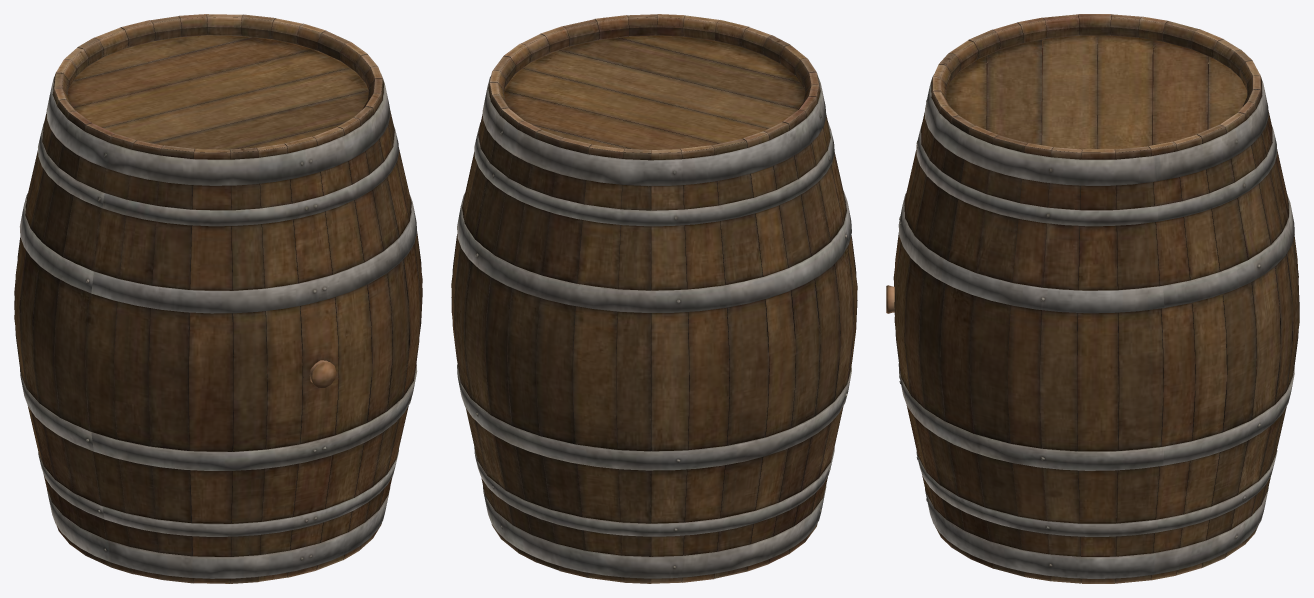
File: ph_wine_barrel_01.glb
3 renders of one model, left to right at view 1: azimuth 30°, elevation 25°; view 2: azimuth 150°, elevation 25°; view 3: azimuth 270°, elevation 25°, orthographic.
Visible parts, largest first — view 1: wine_barrel_01, wine_barrel_01_Lid, wine_barrel_01_bung; view 2: wine_barrel_01, wine_barrel_01_Lid; view 3: wine_barrel_01, wine_barrel_01_Lid.
Boxes of the visible parts, bbox=[...] form: wine_barrel_01: bbox=[14, 14, 422, 583]; wine_barrel_01_Lid: bbox=[67, 35, 368, 149]; wine_barrel_01_bung: bbox=[309, 360, 336, 387]; wine_barrel_01: bbox=[451, 14, 857, 583]; wine_barrel_01_Lid: bbox=[504, 35, 805, 152]; wine_barrel_01: bbox=[893, 14, 1299, 583]; wine_barrel_01_Lid: bbox=[946, 35, 1247, 149].
Size of what is drawn, in the model's own units: 0.7422 by 0.8713 by 0.756.
1 material, 1 textured.
